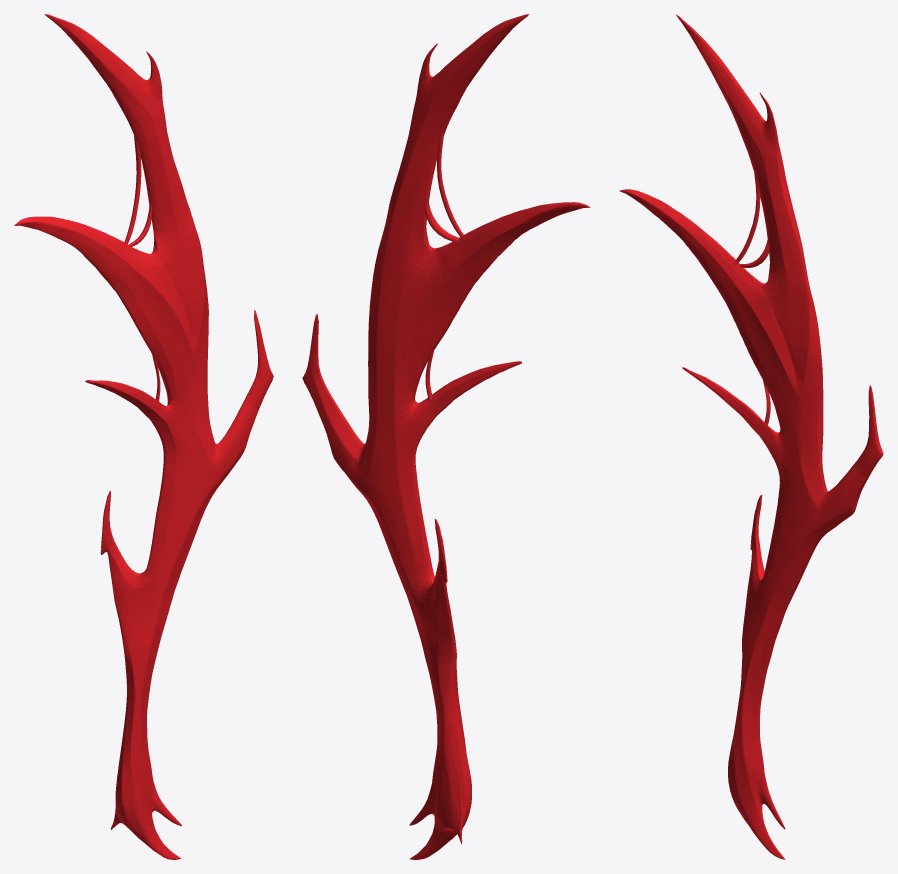
File: Inst.fbx
The picture shows the model from 3 angles, left to right: view 1: azimuth 30°, elevation 25°; view 2: azimuth 150°, elevation 25°; view 3: azimuth 330°, elevation 25°; orthographic projection. The views are drawn at different scales.
Parts seen in each view (by area): view 1: K26_W01_REF.mo; view 2: K26_W01_REF.mo; view 3: K26_W01_REF.mo.
Part boxes in pixels (<box>): K26_W01_REF.mo: <box>14,14,273,859</box>; K26_W01_REF.mo: <box>302,14,590,859</box>; K26_W01_REF.mo: <box>619,14,883,859</box>.
Bounding box in the file's own units: 27.18 × 83.26 × 5.45.
